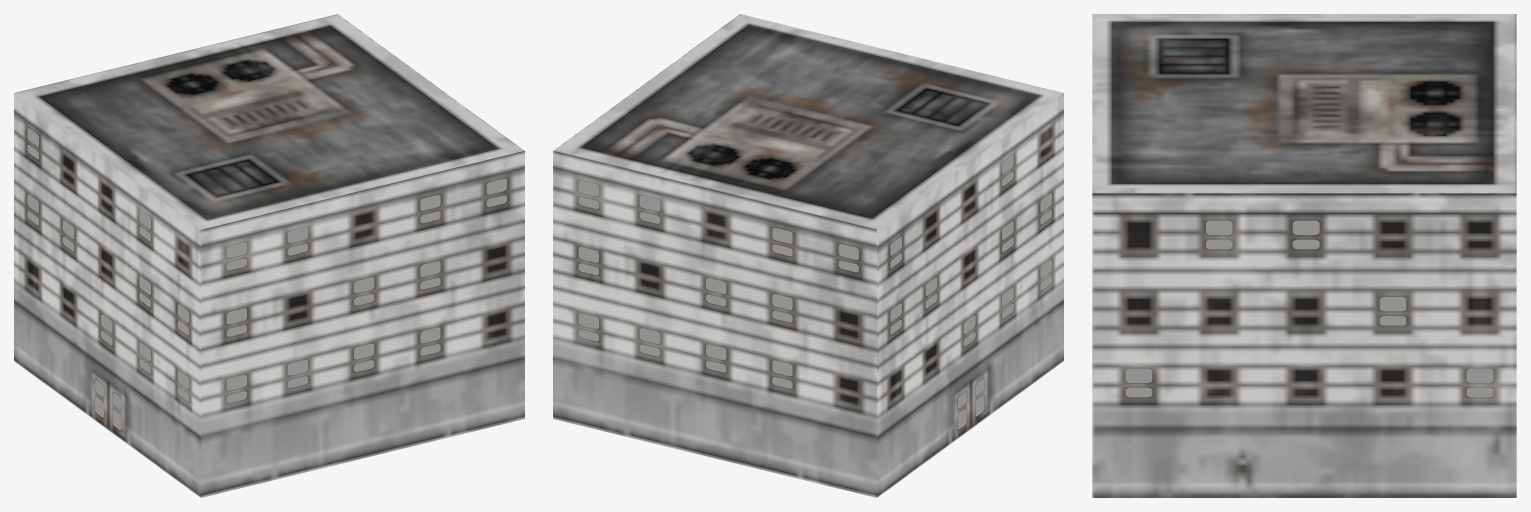
File: city4storyc.glb
3 views of the same model, side by side, from view 1: azimuth 30°, elevation 25°; view 2: azimuth 150°, elevation 25°; view 3: azimuth 270°, elevation 25° (orthographic). The views are drawn at different scales.
Parts seen in each view (by area): view 1: City4Story_, LitWin_City4Story; view 2: City4Story_, LitWin_City4Story; view 3: City4Story_, LitWin_City4Story.
Part boxes in pixels (<box>): City4Story_: <box>14,14,524,497</box>; LitWin_City4Story: <box>27,128,506,430</box>; City4Story_: <box>553,14,1063,497</box>; LitWin_City4Story: <box>578,155,1051,429</box>; City4Story_: <box>1092,14,1516,497</box>; LitWin_City4Story: <box>1125,220,1493,397</box>.
Bounding box in the file's own units: 17.92 × 14.18 × 17.92.
1 material, 1 textured.
